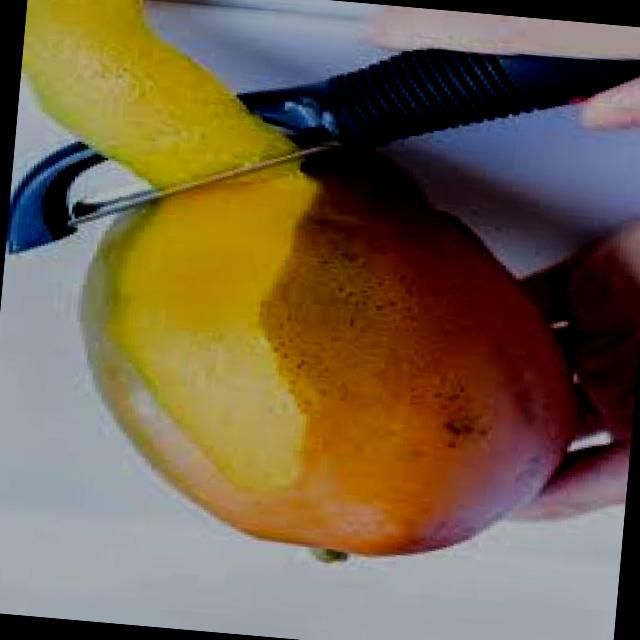Mango: (47, 126, 578, 583)
